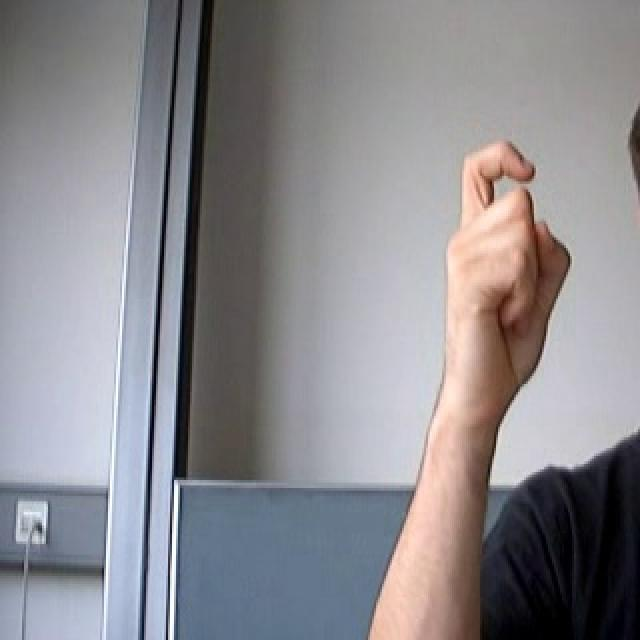X: (426, 129, 581, 413)
